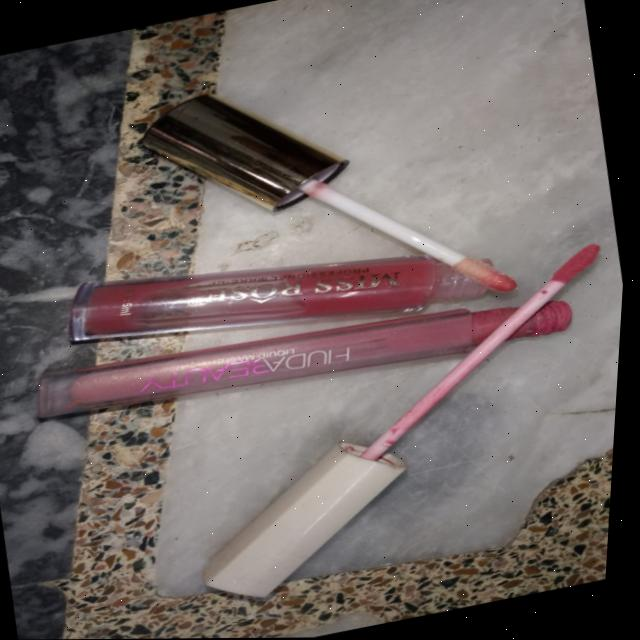lip gloss: (359, 146, 633, 388)
